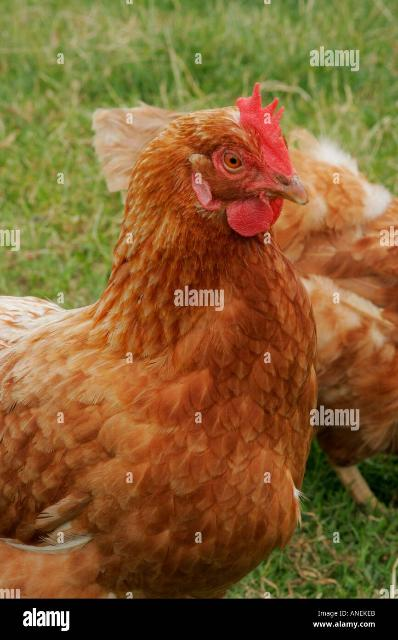Chicken: (0, 78, 314, 599), (92, 104, 398, 512)
